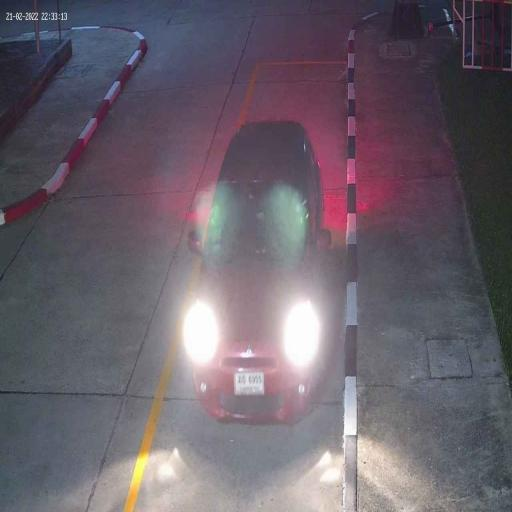car: (192, 119, 327, 428)
